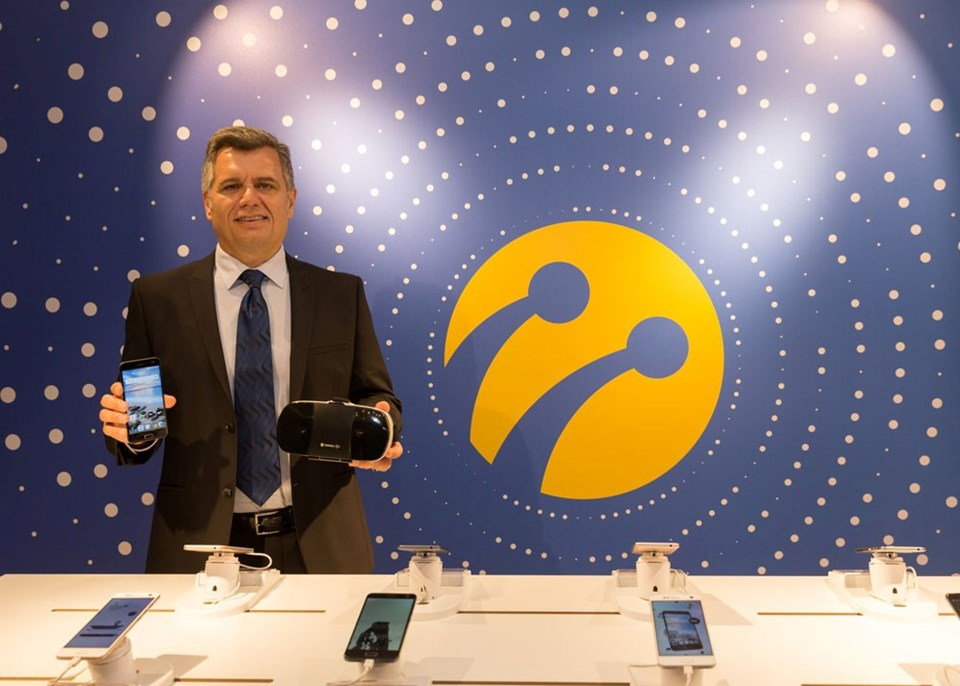turkcell: (436, 219, 729, 505)
